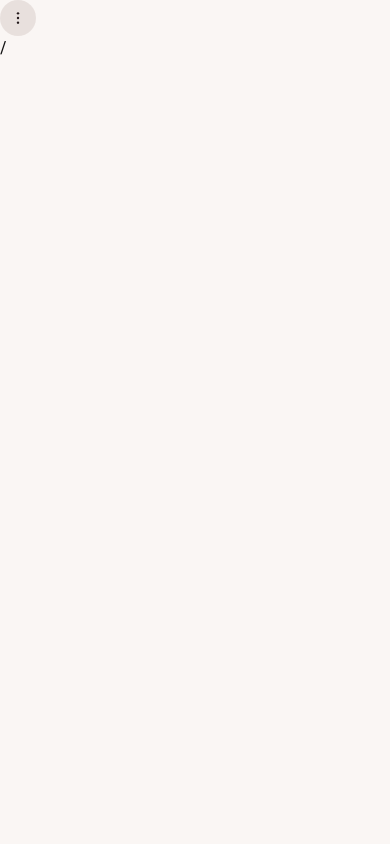
Test: <TrackMenu /> — 1.3 podcast episodes › an episode goes to its podcast, not to an album page
The width and height of the screenshot is (390, 844).
Step 1. Click the button named "More options" → (18, 18), box [0, 0, 36, 36]
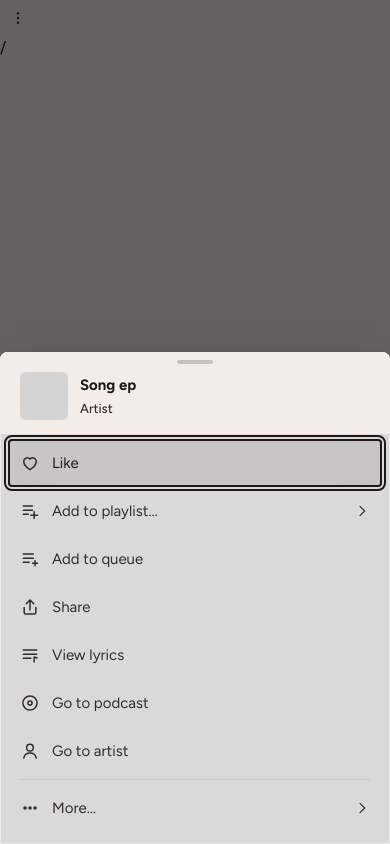
Step 2. Click the menu item "Go to podcast" → (100, 703), box [8, 679, 382, 727]
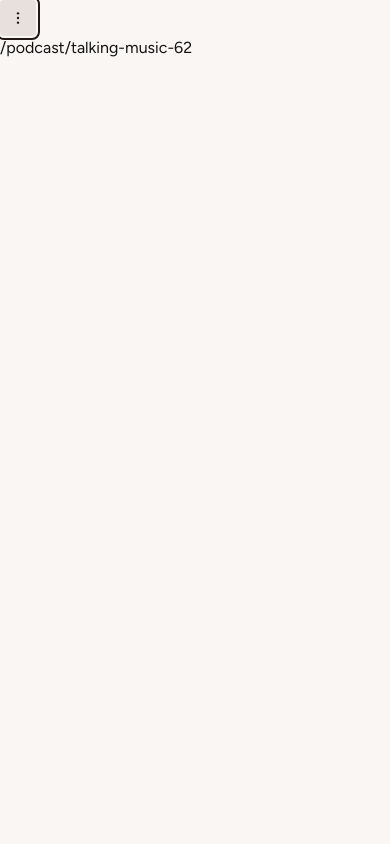
Now the text with test id "where" reads "/podcast/talking-music-62", box [0, 38, 192, 57]
